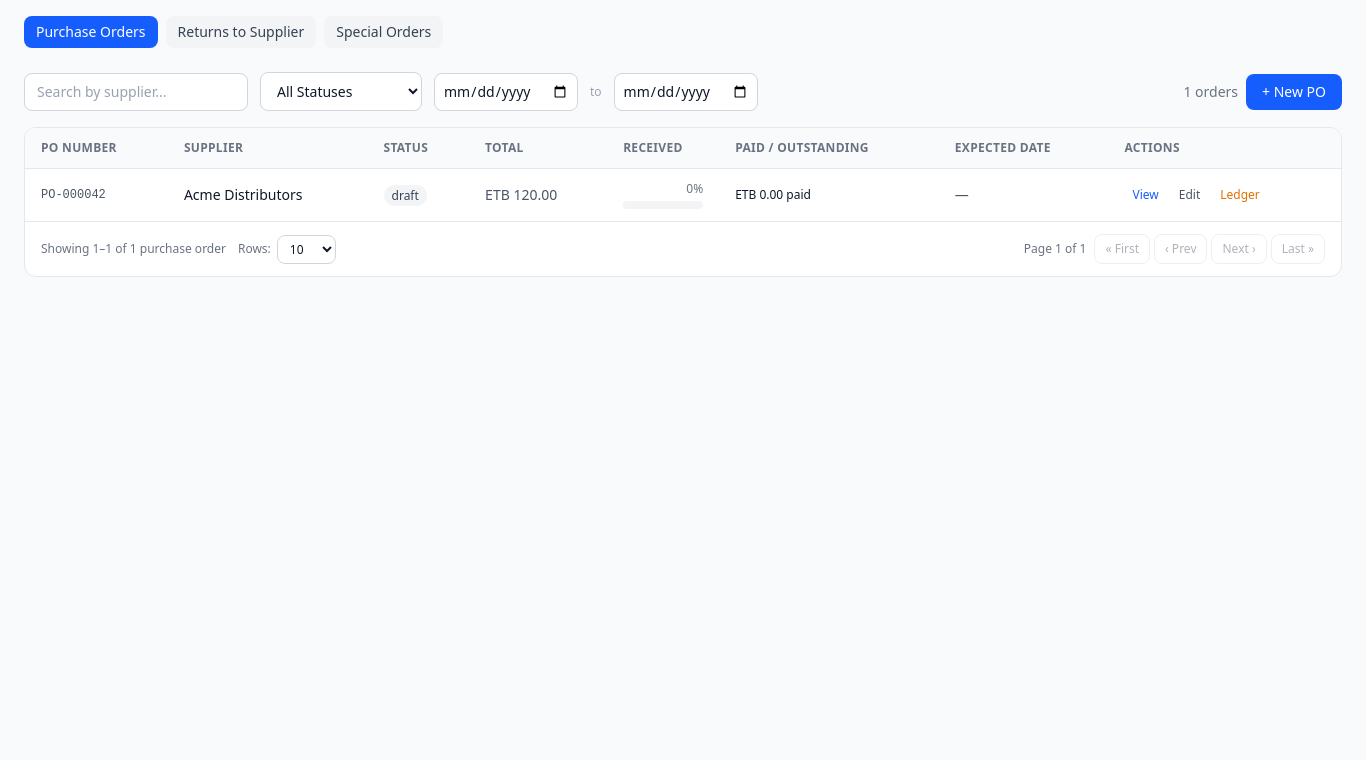
Test: Procurement: the order form › works out the total with Money (was: floating point, 1.005 showed as 1.00)
Expected: the text "Acme Distributors" is shown, [168,168,368,221]
Click the button "+ New PO".
click(1294, 92)  # box [1246,74,1342,110]
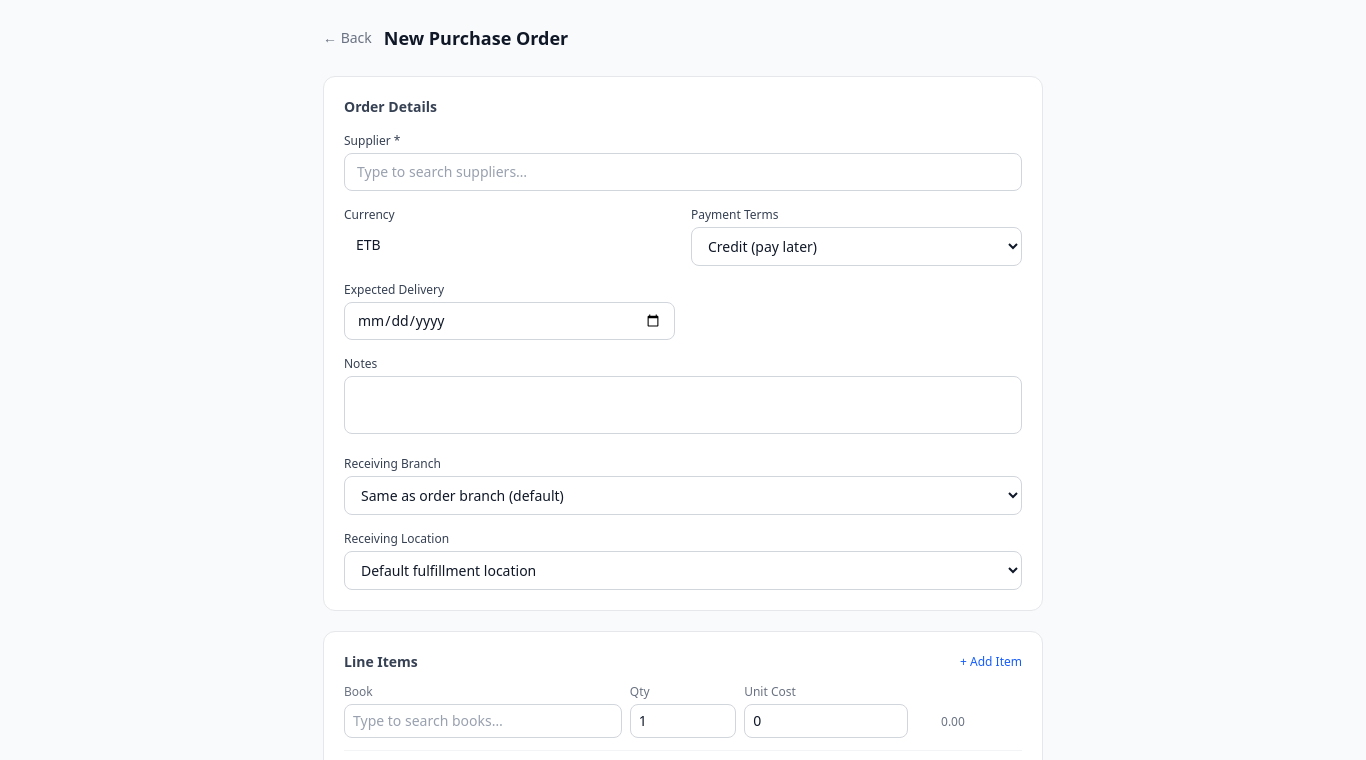
Now the heading "Line Items" is shown, box [344,652,418,672]
Replace the text in the number field labelled "Unit Cost" with "1.005" at (826, 721), box [744,704,908,738]
(page scrolled)
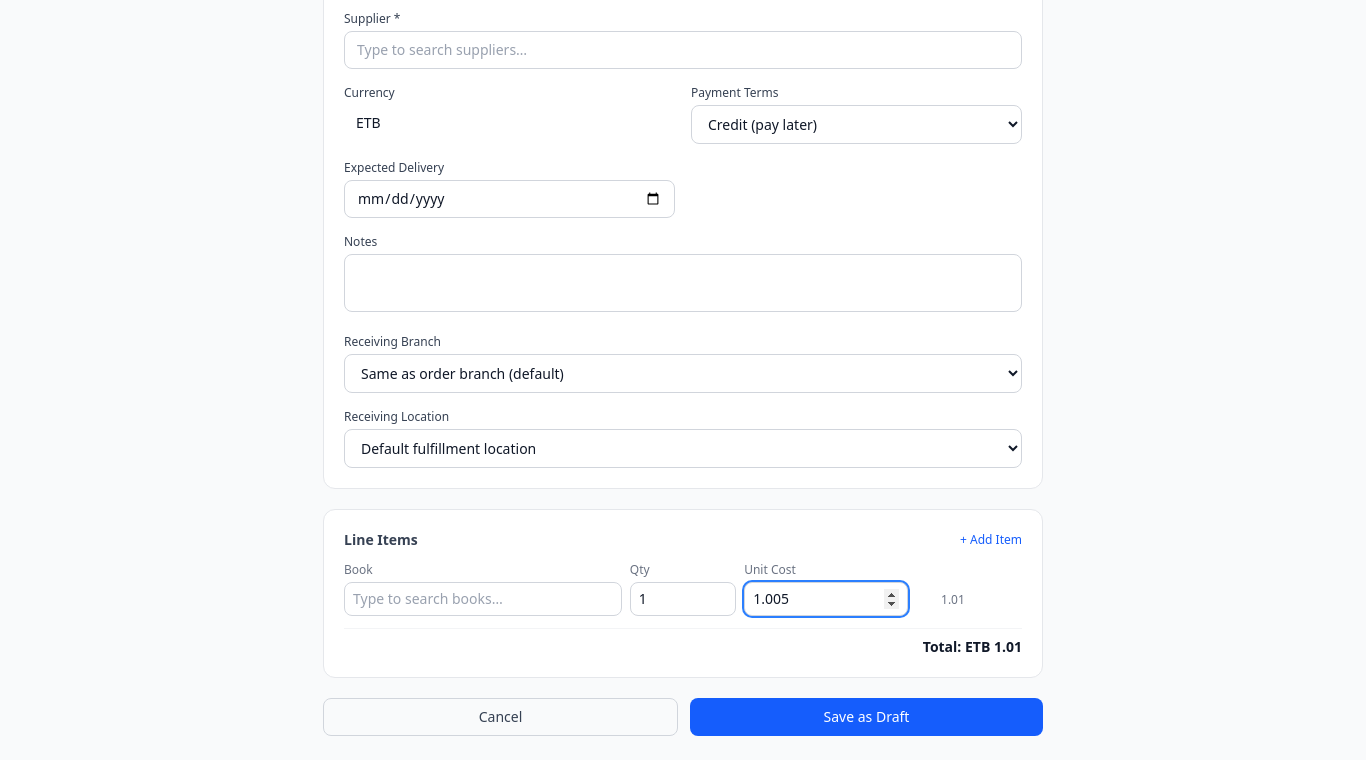
Now the text "Total: ETB 1.01" is shown, box [923,637,1022,657]
